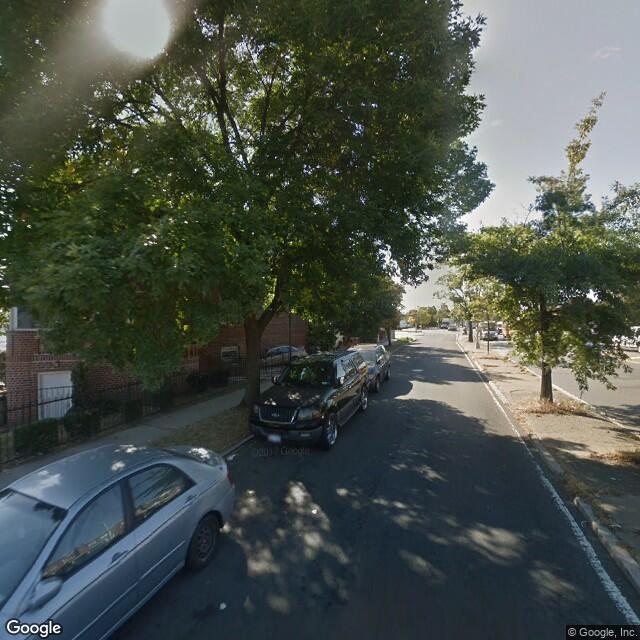litter: (227, 452, 240, 463), (218, 602, 226, 609)
